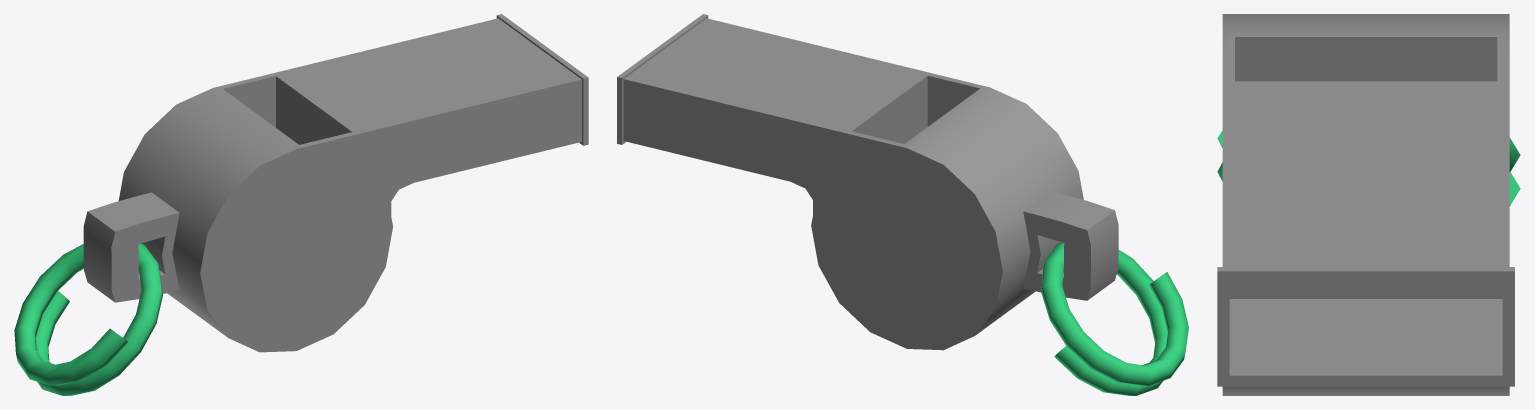
File: _ilbato.FBX
The picture shows the model from 3 angles, left to right: view 1: azimuth 30°, elevation 25°; view 2: azimuth 150°, elevation 25°; view 3: azimuth 270°, elevation 25°; orthographic projection. The views are drawn at different scales.
Parts seen in each view (by area): view 1: Silbato; view 2: Silbato; view 3: Silbato.
Part boxes in pixels (box(x1,y1,x2,y2)): Silbato: box(14, 14, 588, 395); Silbato: box(617, 14, 1188, 395); Silbato: box(1217, 14, 1520, 395).
Size of the model in its own units: 10.72 by 4.45 by 3.17.
